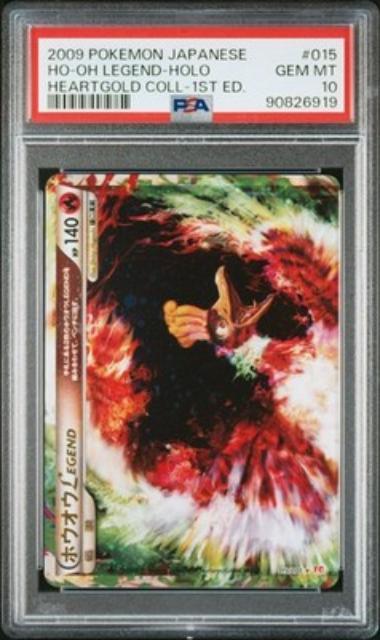Card: (39, 168, 346, 594)
Name: (56, 419, 83, 569)
